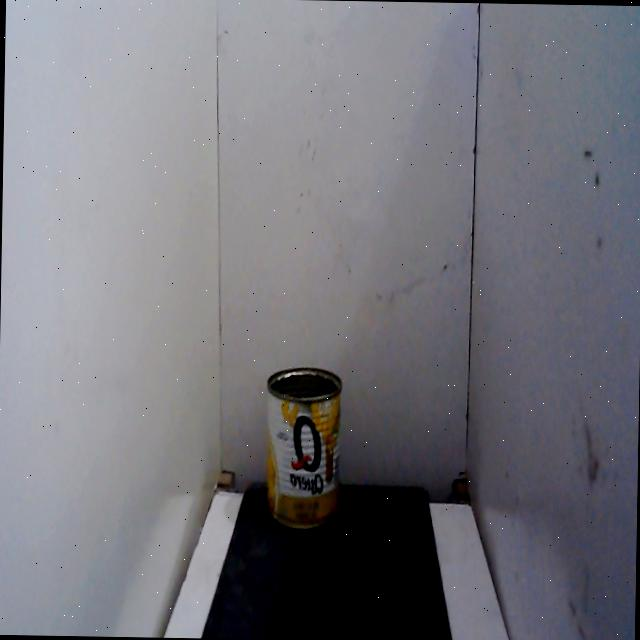metal: (256, 354, 352, 545)
